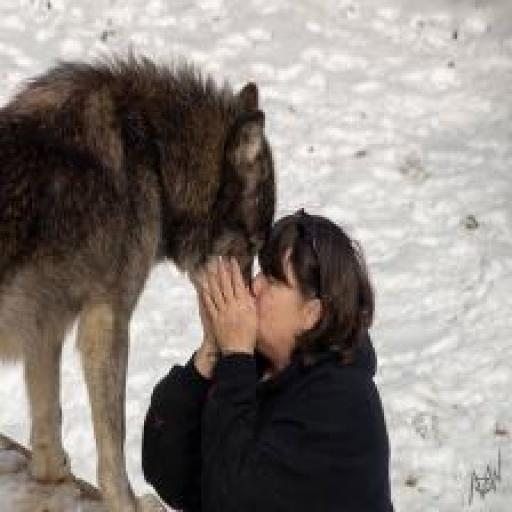wolf: (0, 39, 277, 512)
